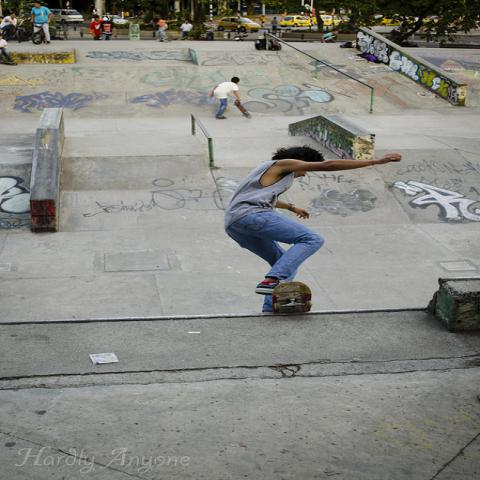car: (212, 16, 262, 33), (50, 9, 85, 24), (99, 16, 135, 29), (279, 16, 310, 27), (320, 15, 332, 25), (333, 19, 350, 26), (323, 12, 335, 16)
